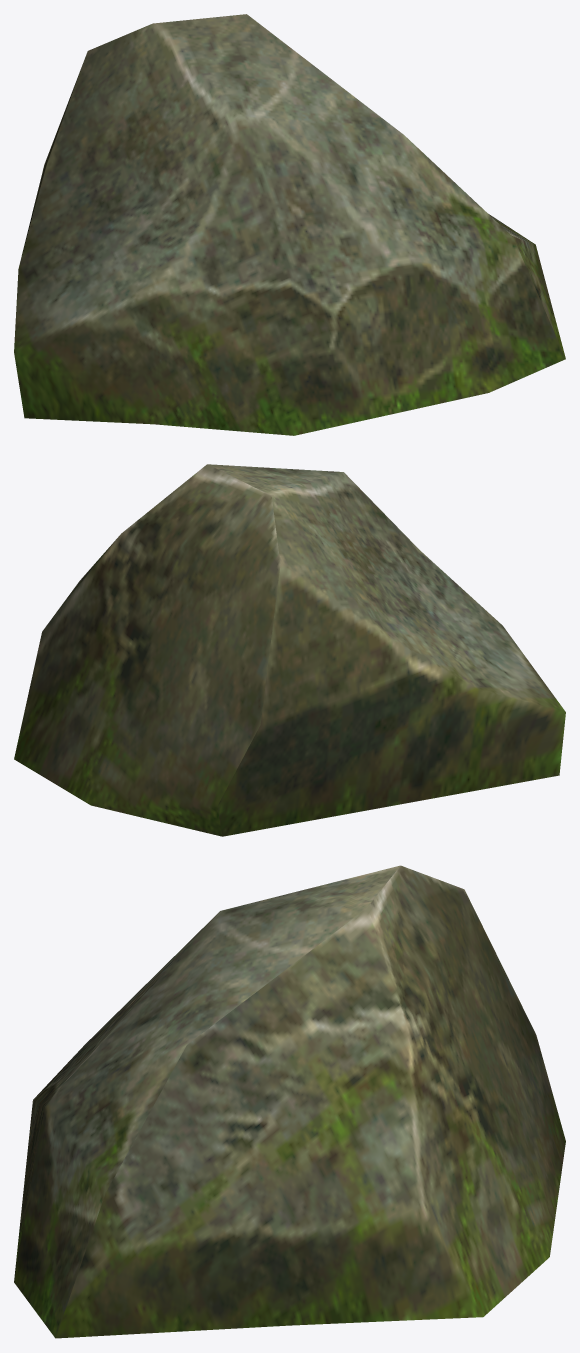
The model's file is cmc_shitou04.FBX.
3 renders of one model, top to bottom at view 1: azimuth 30°, elevation 25°; view 2: azimuth 150°, elevation 25°; view 3: azimuth 270°, elevation 25°, orthographic. The views are drawn at different scales.
Visible parts, largest first — view 1: cmc_shitou04; view 2: cmc_shitou04; view 3: cmc_shitou04.
Boxes of the visible parts, x1,y1,x2,y2 form: cmc_shitou04: (14,14,565,435); cmc_shitou04: (14,464,565,836); cmc_shitou04: (14,865,565,1338).
Bounding box in the file's own units: 178 × 101 × 153.
